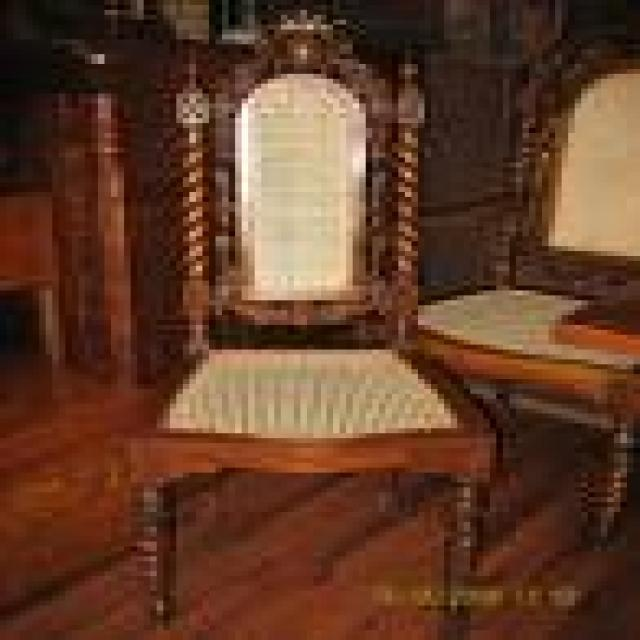chair: (133, 13, 504, 629)
